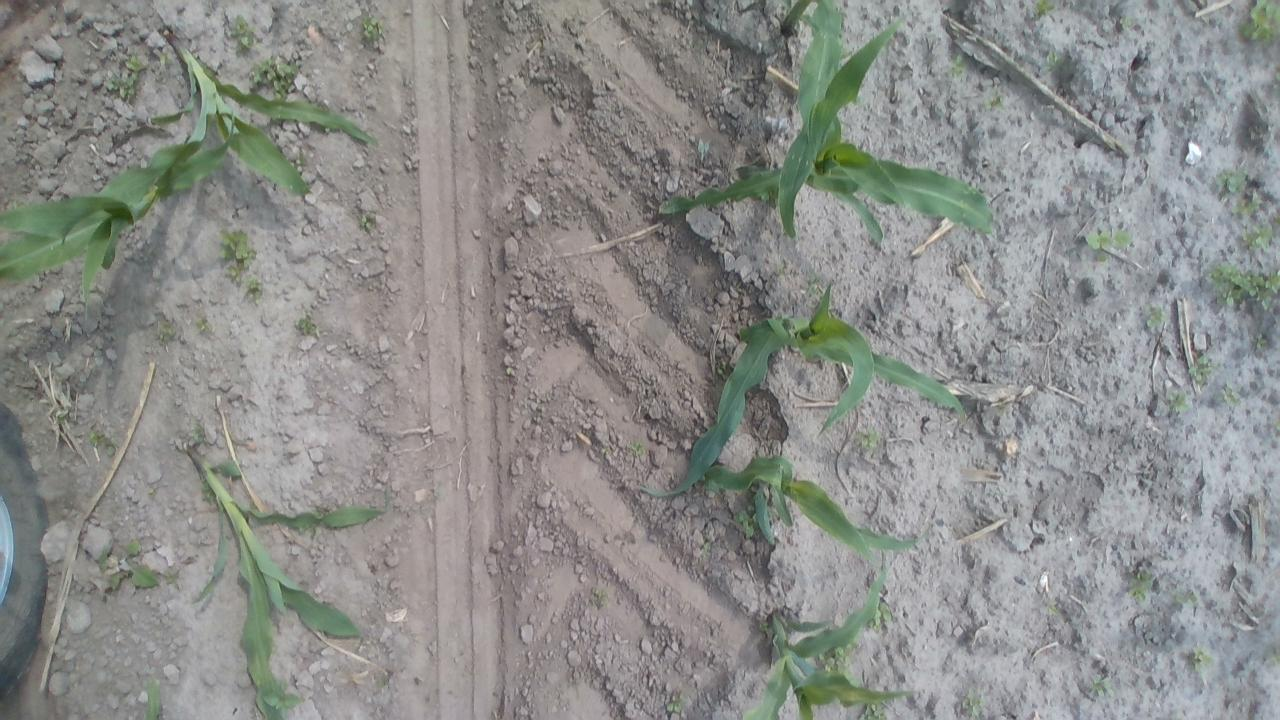Maize: (654, 0, 1001, 253), (637, 271, 976, 496), (178, 437, 404, 719), (0, 109, 241, 326), (153, 12, 374, 204), (700, 450, 936, 567), (732, 564, 899, 720)
Weeds: (1205, 260, 1280, 313), (93, 544, 163, 598), (249, 53, 311, 104), (213, 229, 265, 282), (1081, 226, 1139, 264), (102, 50, 144, 98), (1240, 1, 1280, 40), (266, 678, 303, 718), (356, 11, 390, 54), (1124, 566, 1156, 608), (818, 648, 858, 681), (226, 14, 258, 55), (866, 597, 900, 635), (1186, 642, 1218, 681), (957, 686, 992, 720), (1216, 164, 1254, 195), (150, 316, 182, 352), (1186, 353, 1218, 388), (978, 81, 1012, 113), (1226, 193, 1266, 219), (1240, 229, 1278, 256), (662, 689, 692, 720), (88, 428, 118, 459), (1088, 673, 1122, 699), (736, 507, 761, 542), (1216, 379, 1240, 413), (942, 52, 971, 80), (293, 312, 323, 338), (186, 312, 218, 336), (1166, 389, 1194, 415), (356, 205, 381, 234), (1170, 588, 1204, 609), (240, 277, 266, 304), (1029, 0, 1064, 20), (186, 419, 212, 445), (587, 584, 610, 613), (1143, 302, 1166, 330), (1041, 600, 1067, 624), (858, 702, 891, 720), (861, 428, 882, 455), (628, 434, 648, 460), (1249, 330, 1271, 353), (1267, 636, 1280, 674), (50, 406, 70, 428), (803, 276, 822, 298), (1114, 12, 1136, 31), (695, 136, 710, 162), (1042, 50, 1061, 68), (1269, 68, 1280, 97), (772, 259, 788, 277), (699, 540, 713, 554), (1271, 415, 1280, 436)
